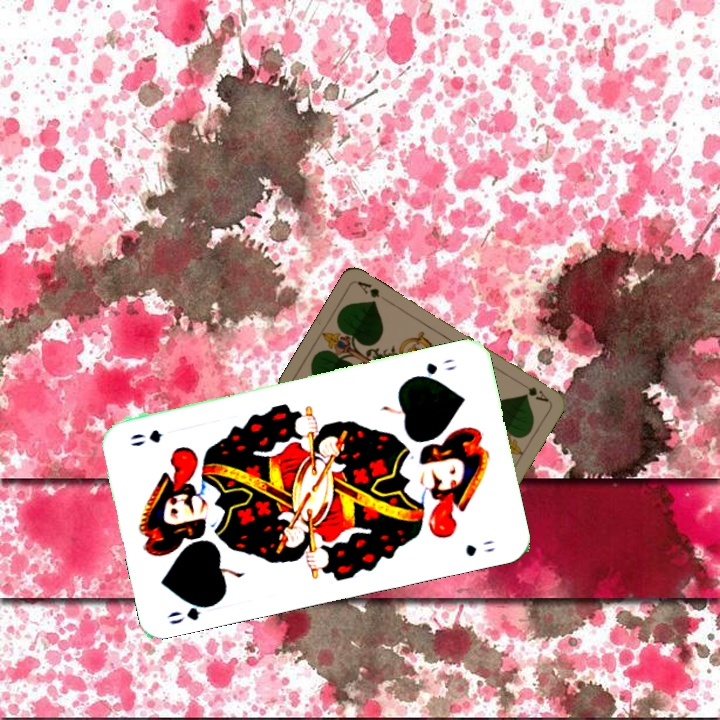GA: (515, 377, 551, 405)
GO: (163, 597, 221, 627), (408, 354, 458, 382)
